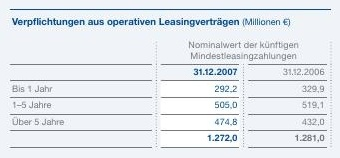table: (0, 0, 340, 158)
